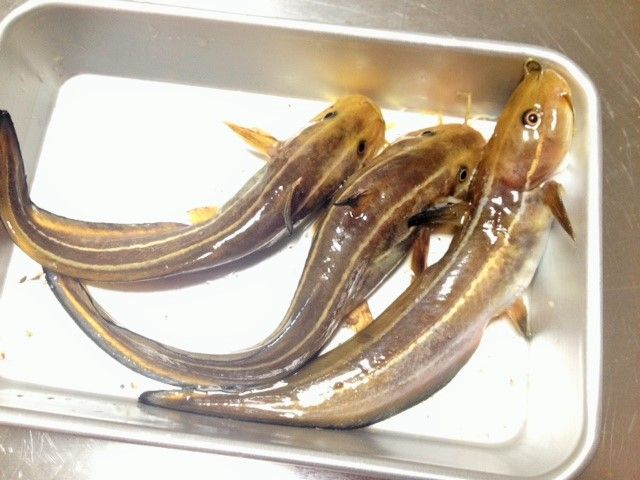gonzui: (20, 57, 609, 431)
